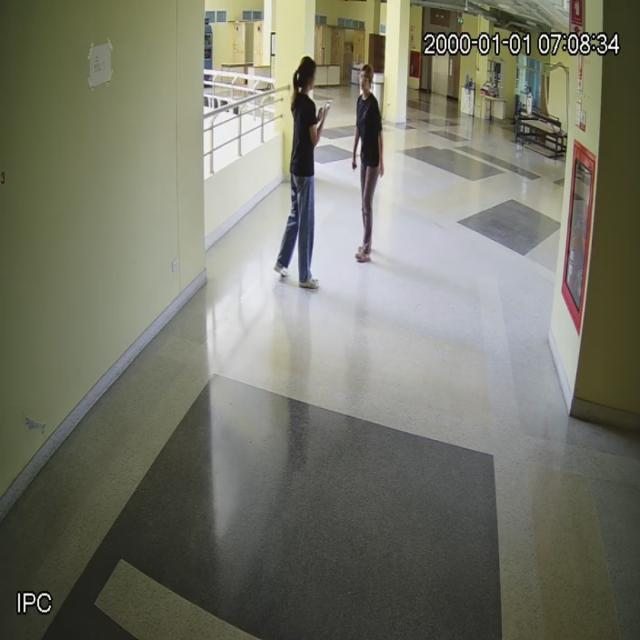normal: (277, 50, 331, 292), (349, 62, 388, 267)
